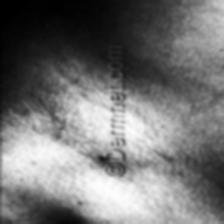Unclassified: (96, 154, 108, 164)
